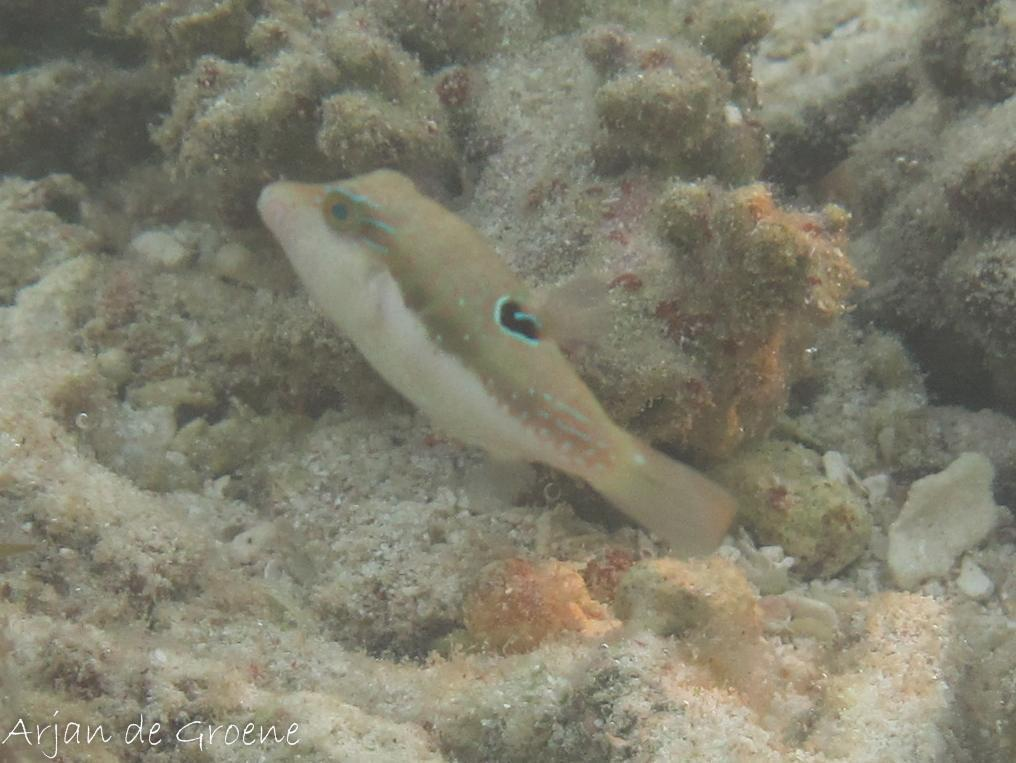Fish: (189, 77, 781, 614)
